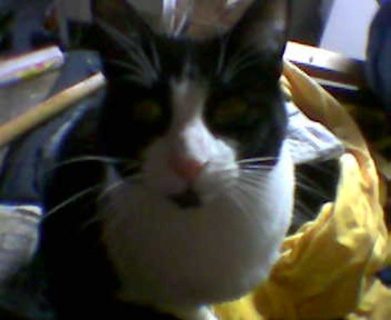Cat: (35, 0, 331, 318)
